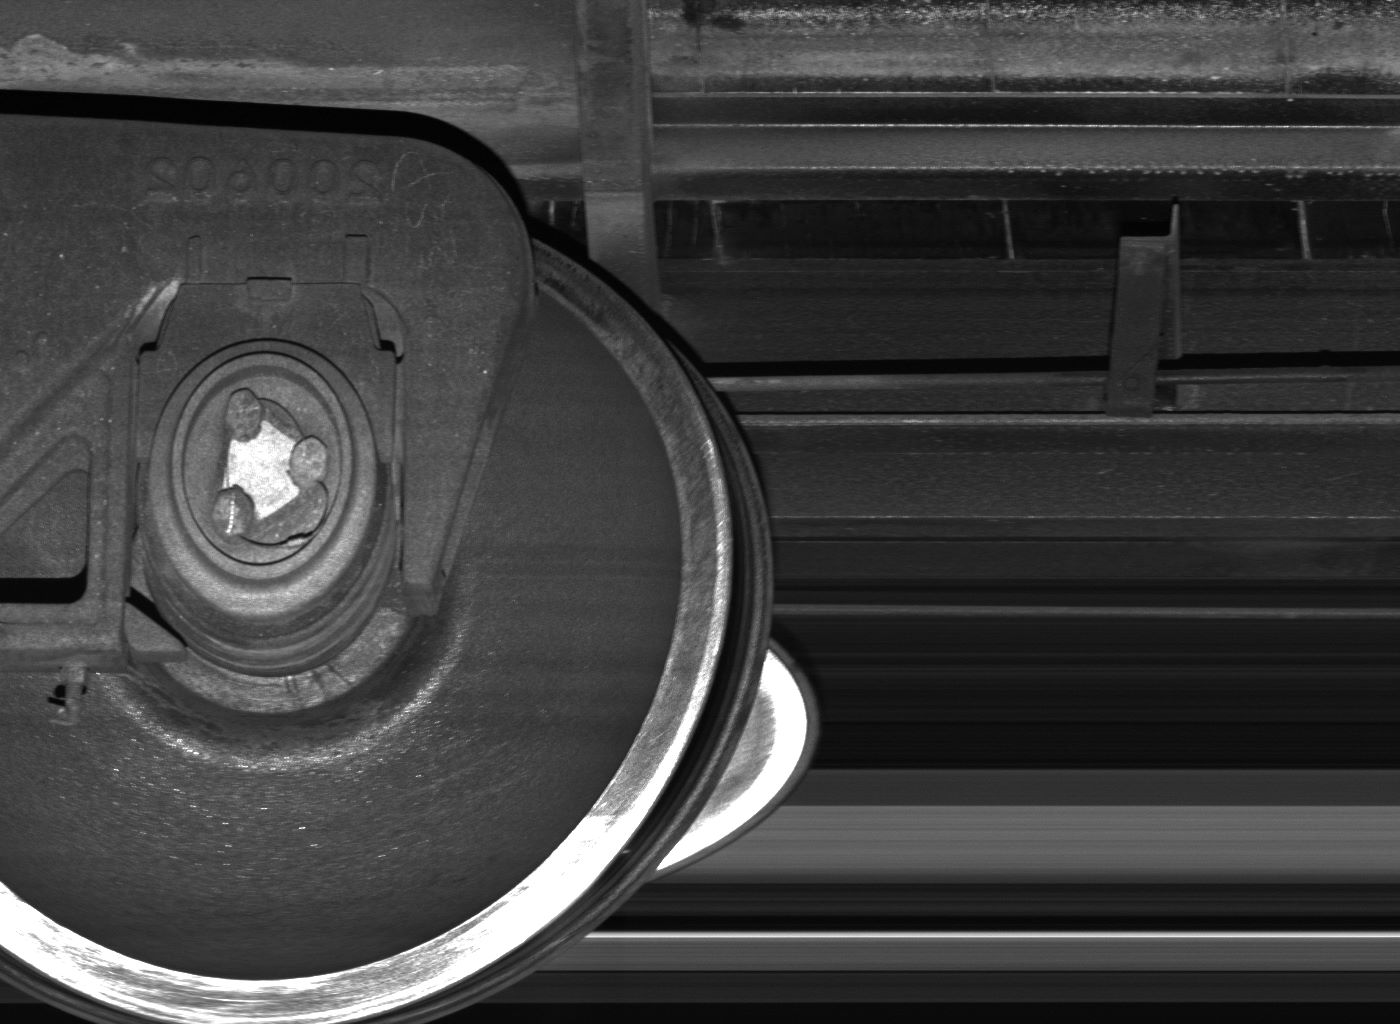normal: (1099, 205, 1180, 414)
